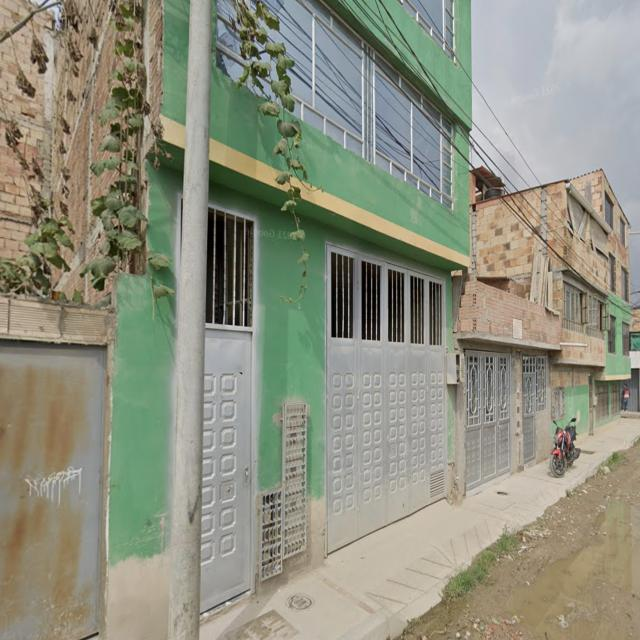Fachada: (201, 0, 471, 610), (470, 169, 631, 425), (454, 279, 561, 490)
Poste: (168, 0, 213, 640)
